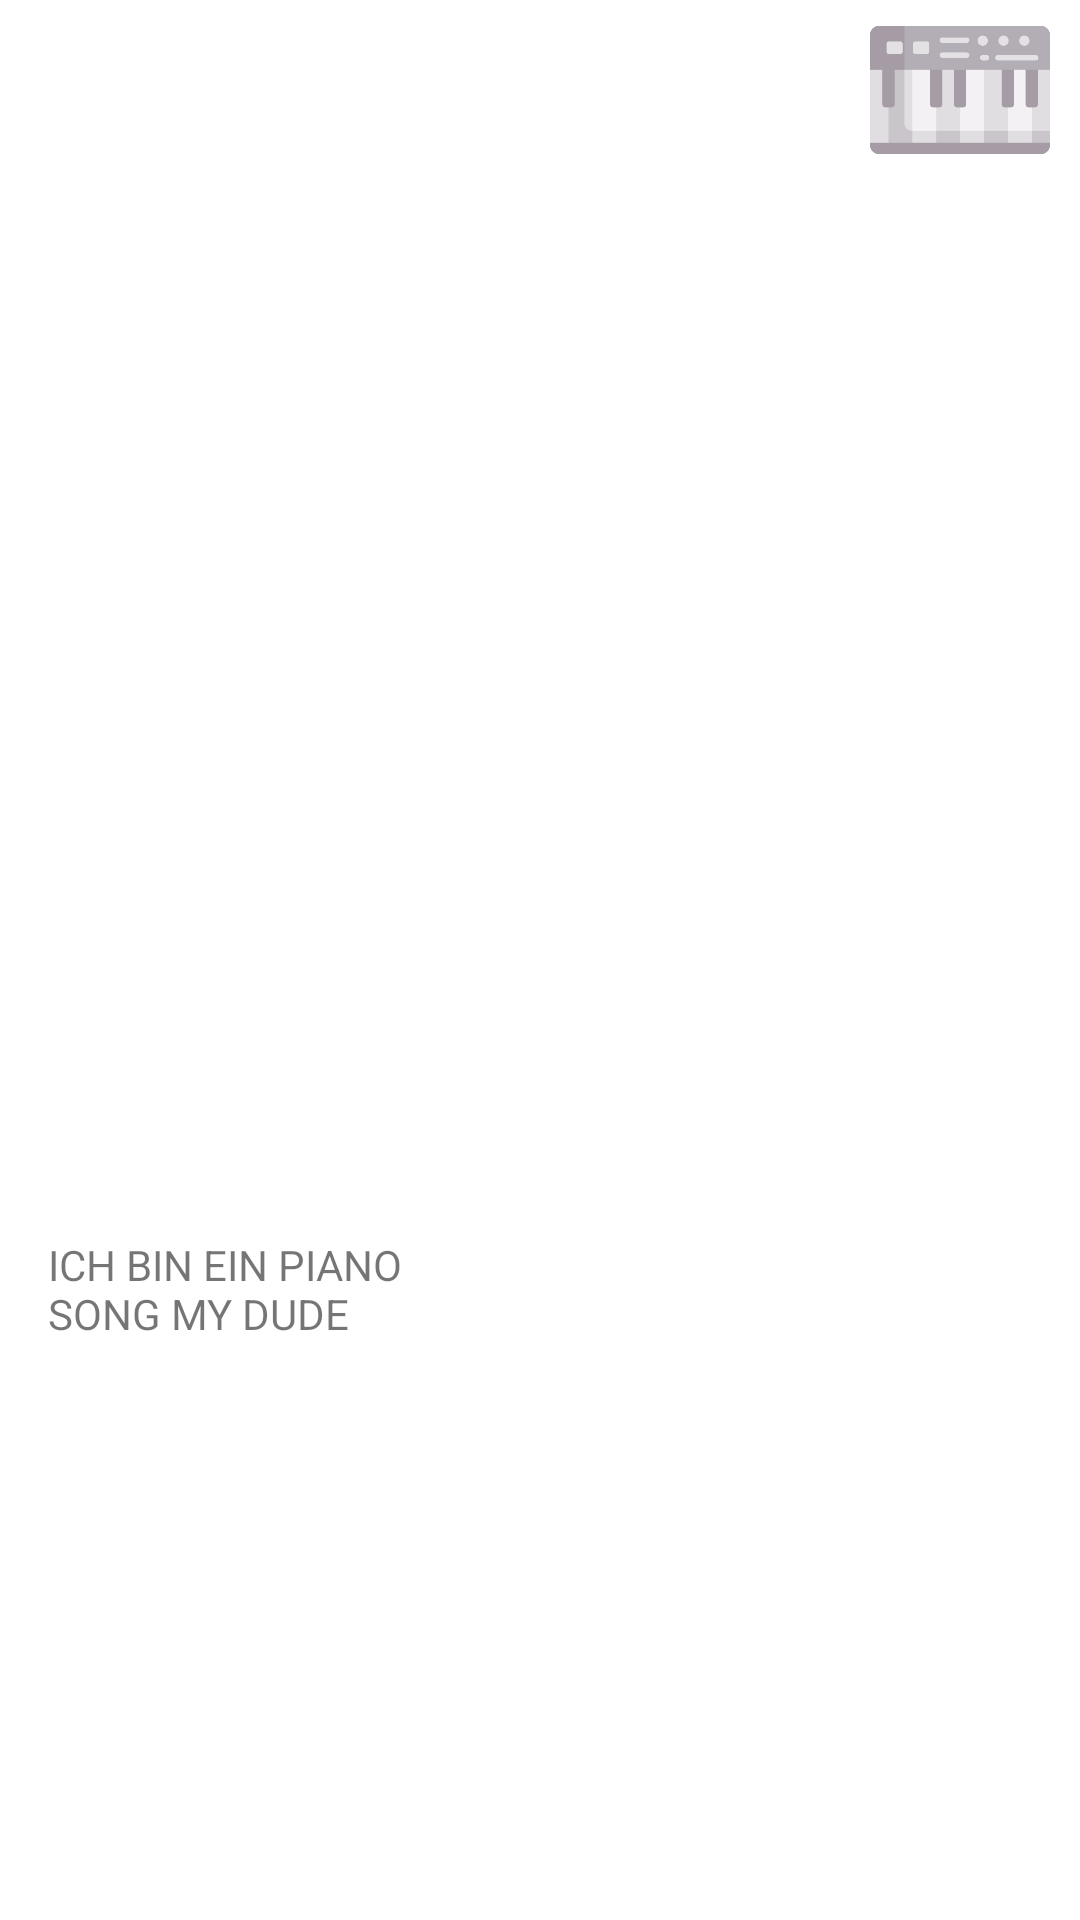

Point at icon controls on the screen. Image size 1080*1920, points as point (x, y).
midi: point (960, 90)
